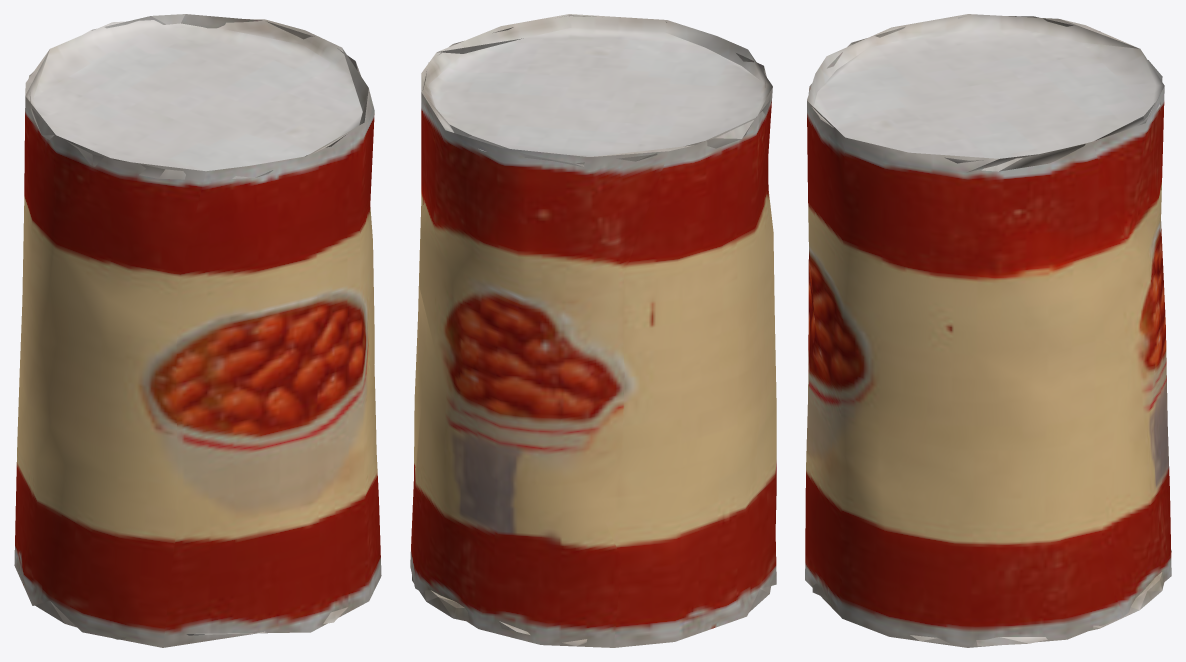
The model's file is item-beans.glb.
3 renders of one model, left to right at view 1: azimuth 30°, elevation 25°; view 2: azimuth 150°, elevation 25°; view 3: azimuth 270°, elevation 25°, orthographic.
Parts seen in each view (by area): view 1: beans; view 2: beans; view 3: beans.
Part boxes in pixels (x1,y1,x2,y2): beans: [14, 14, 381, 647]; beans: [410, 14, 776, 647]; beans: [805, 14, 1171, 647].
Size of the model in its own units: 0.075 by 0.11 by 0.075.
1 material, 1 textured.
